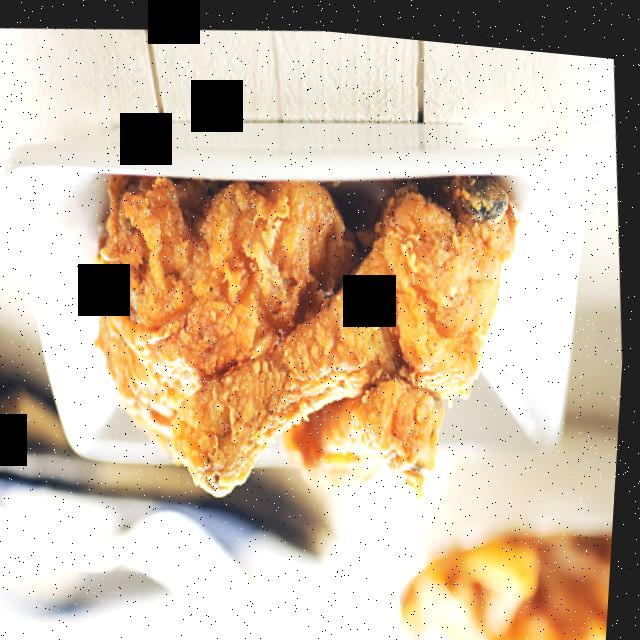Frango: (75, 130, 551, 535)
